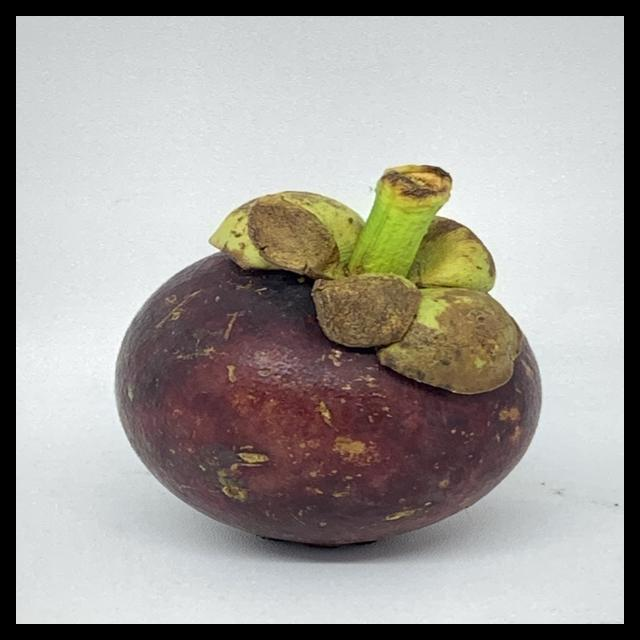mangosteen: (117, 143, 549, 543)
